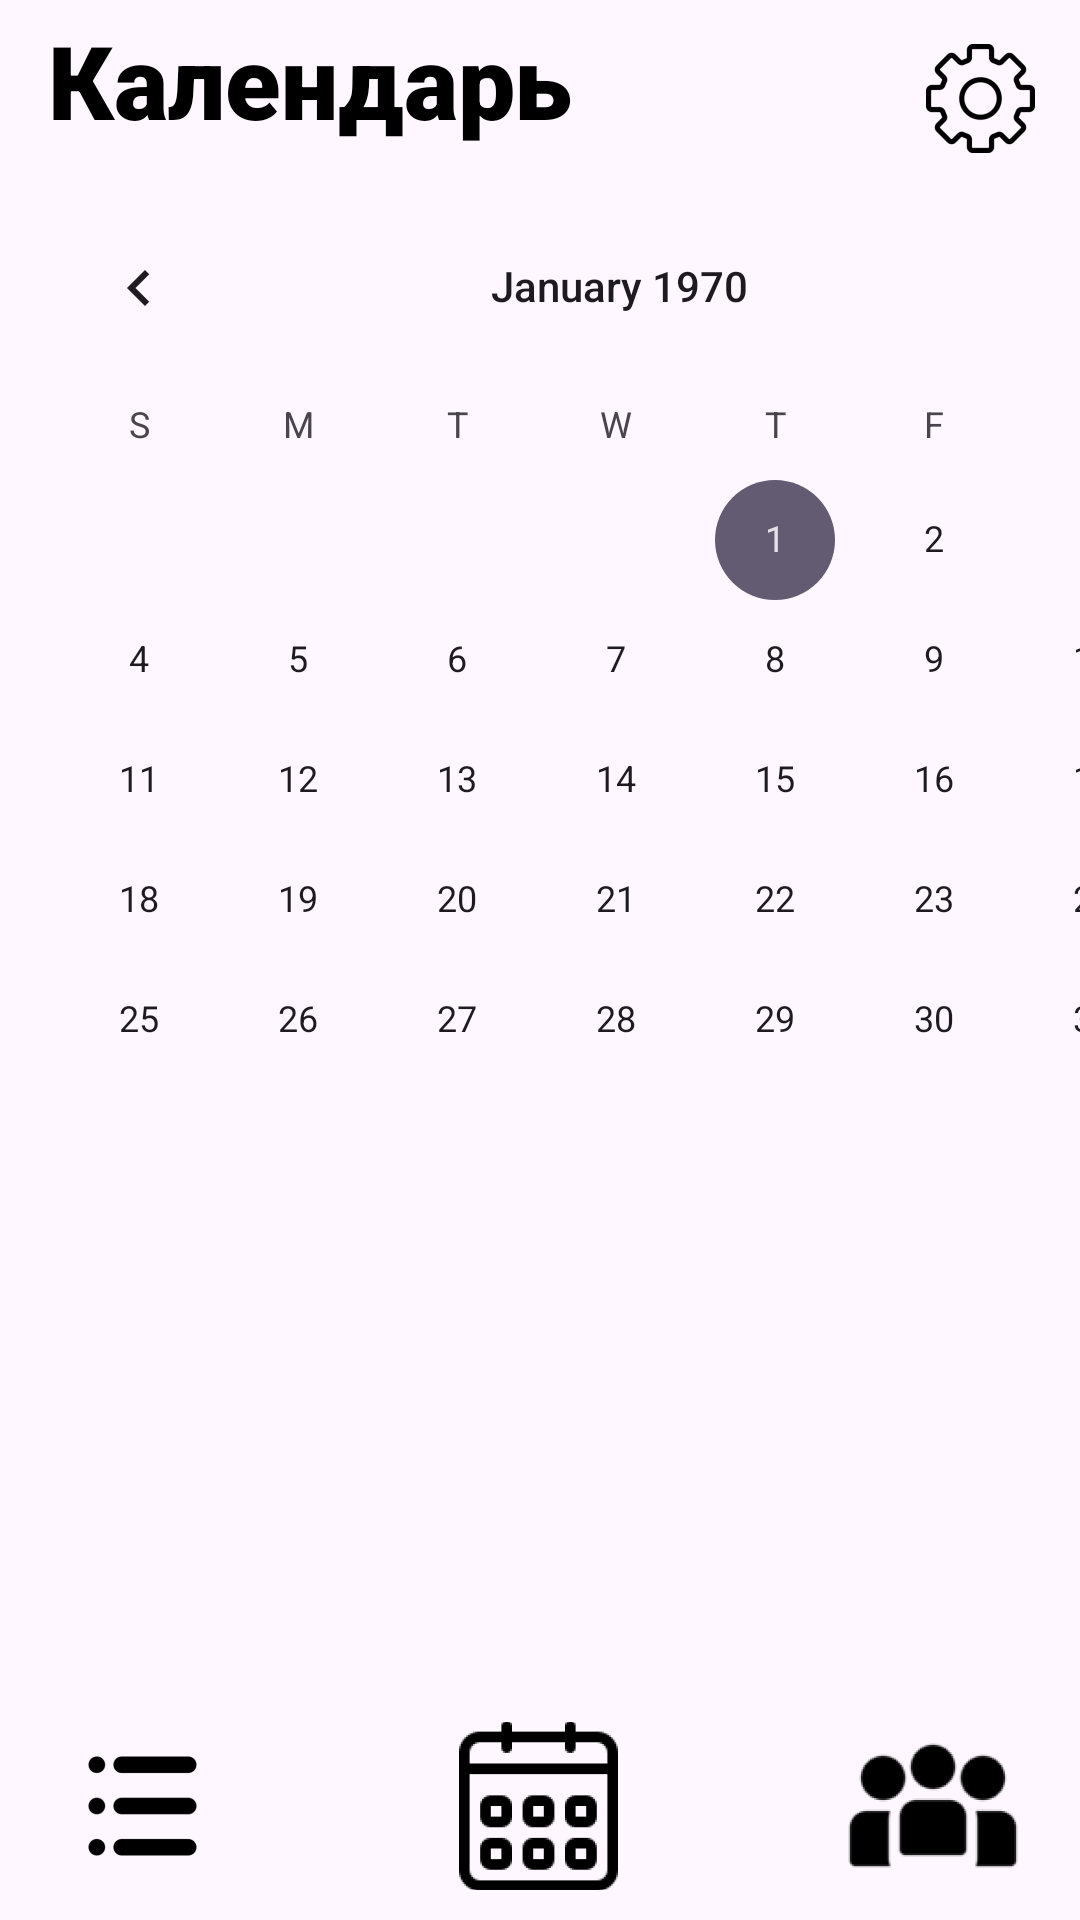

Named icons in this screenshot (1080x1920) and their bounding boxes, (x1, y1, x2, y2):
calendar: (459, 1722, 618, 1890)
org: (848, 1743, 1018, 1868)
settings: (926, 44, 1035, 153)
